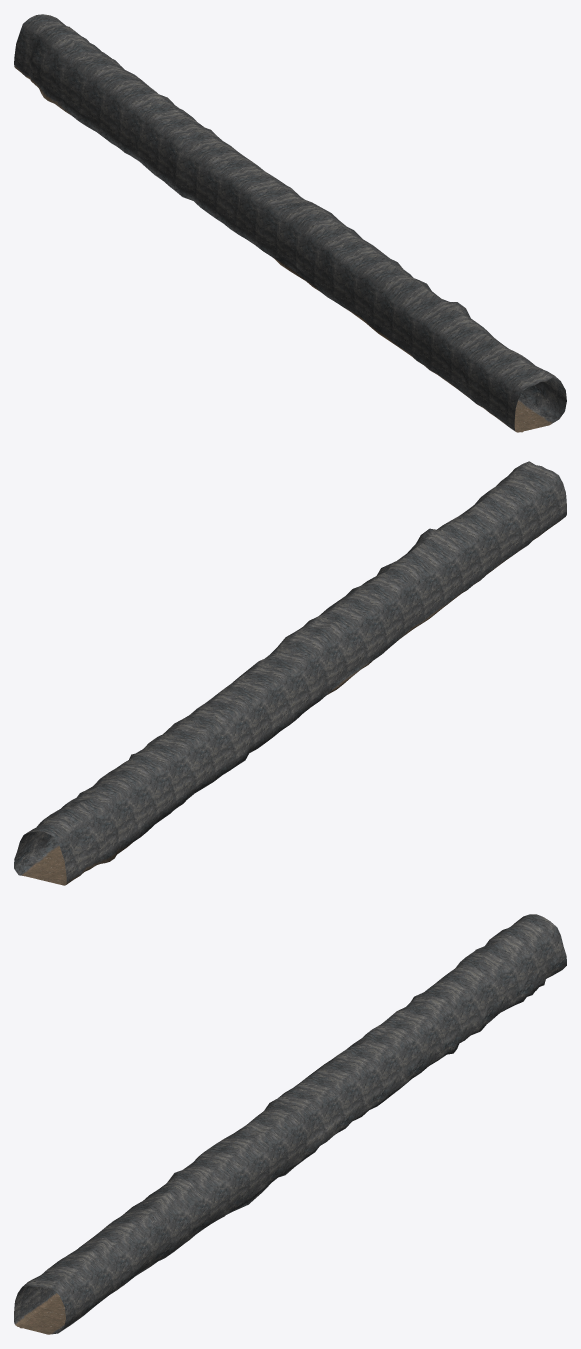
Rendered from piece.obj.
3 renders of one model, top to bottom at view 1: azimuth 30°, elevation 25°; view 2: azimuth 150°, elevation 25°; view 3: azimuth 330°, elevation 25°, orthographic.
Visible parts, largest first — view 1: TunnelB; view 2: TunnelB; view 3: TunnelB.
Boxes of the visible parts, left/top/right/bottom form: TunnelB: left=14, top=14, right=566, bottom=432; TunnelB: left=14, top=461, right=566, bottom=885; TunnelB: left=14, top=914, right=566, bottom=1334.
Bounding box in the file's own units: 3.47 × 2.84 × 48.23.
1 material, 1 textured.
